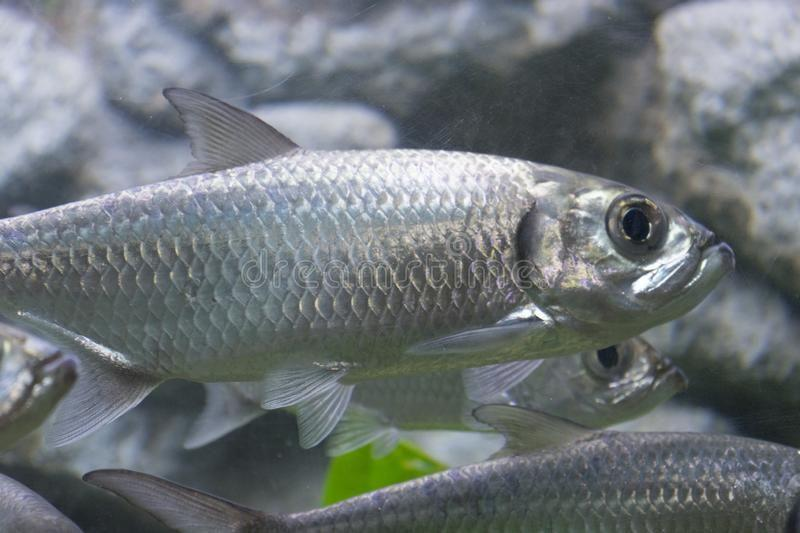Indo-Pacific Tarpon: (2, 86, 734, 464)
